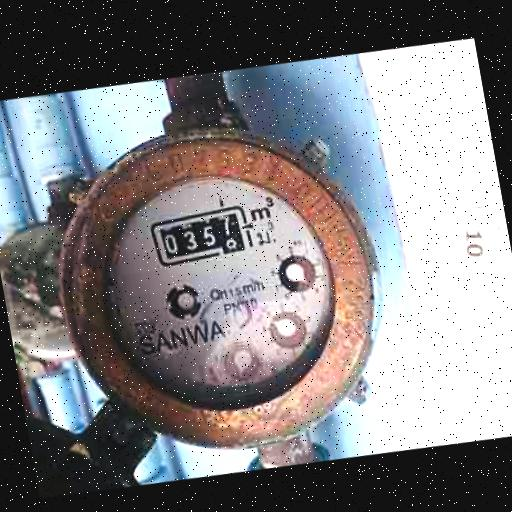0: (158, 224, 185, 259)
3: (176, 218, 203, 255)
5: (194, 215, 221, 251)
7: (211, 210, 244, 255)
border_water_meter_number: (146, 198, 254, 272)
